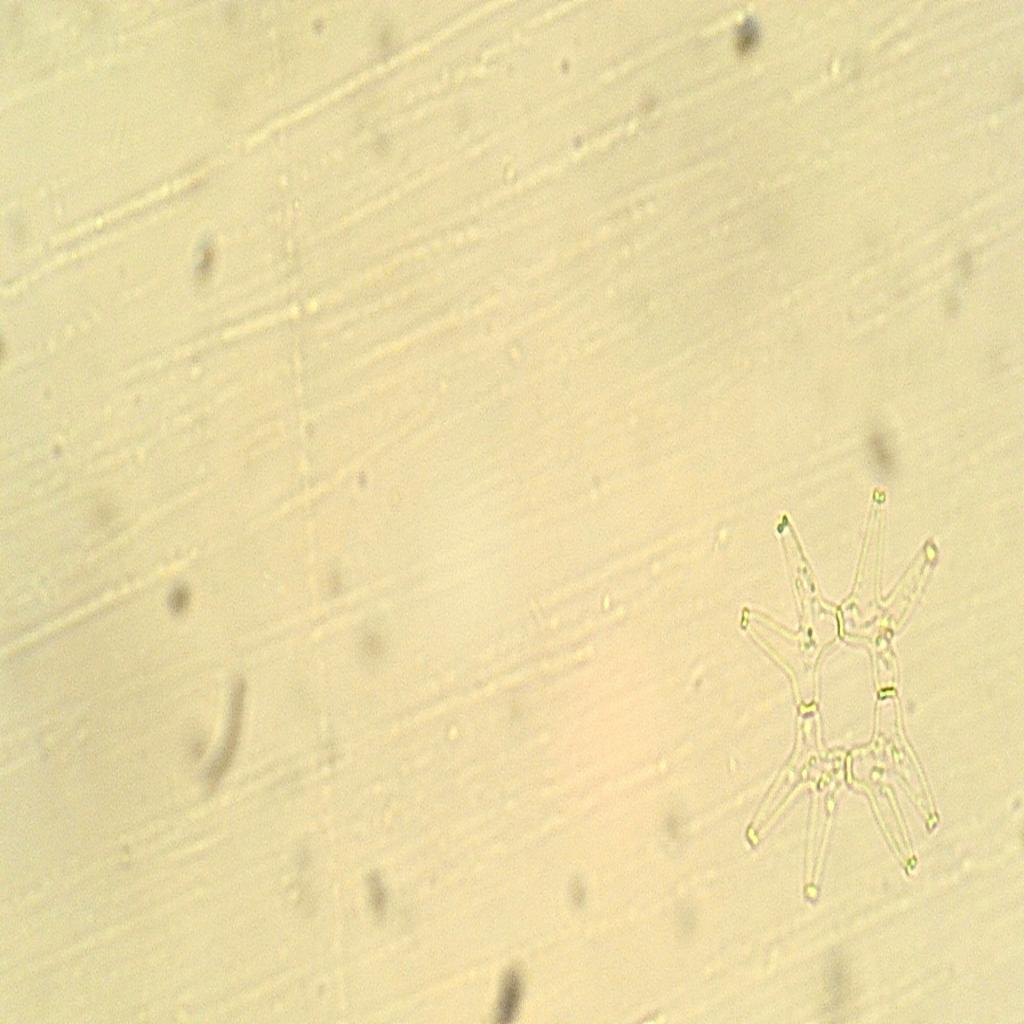Pediastrum_75TH: (702, 450, 965, 935)
